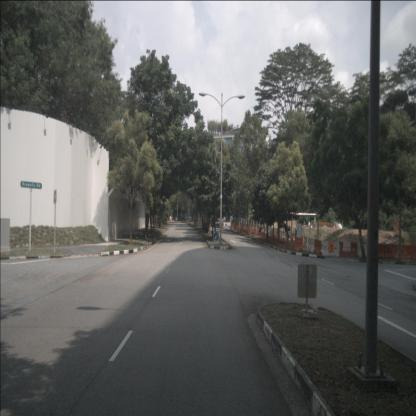movable_object-barrier: (322, 240, 340, 258), (339, 241, 358, 258), (376, 243, 394, 260), (356, 242, 375, 258), (394, 244, 412, 260), (312, 239, 322, 256), (294, 237, 303, 252), (307, 238, 315, 252), (410, 245, 416, 261)
vehicle-car: (213, 219, 219, 228)
